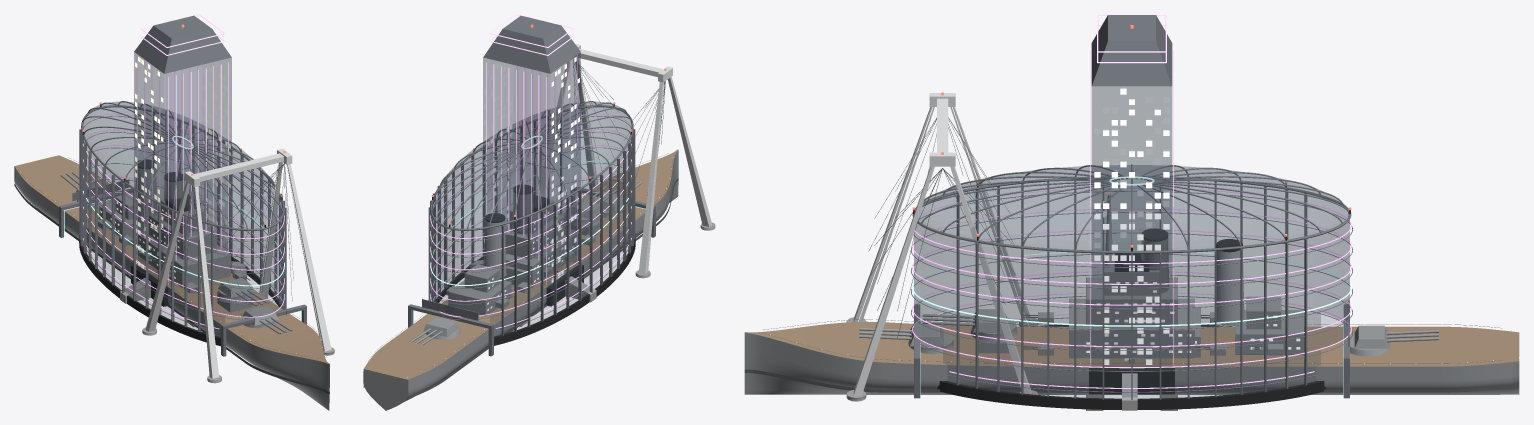
Rendered from lastcall_kit.glb.
The picture shows the model from 3 angles, left to right: view 1: azimuth 30°, elevation 25°; view 2: azimuth 150°, elevation 25°; view 3: azimuth 270°, elevation 25°; orthographic projection. The views are drawn at different scales.
Parts seen in each view (by area): view 1: HaloTower_GLASS, HaloTower_STEEL, CasinoTower_GLASS, Battleship_HULL, Battleship_TEAK, RingPylon_WHITE, CasinoTower_NEONA, CasinoTower_STEEL, HaloTower_LEDA, CasinoTower_WINLIT, HaloTower_DARK, RingPylon_STEEL (+6 smaller); view 2: HaloTower_GLASS, HaloTower_STEEL, Battleship_HULL, CasinoTower_GLASS, Battleship_TEAK, RingPylon_WHITE, CasinoTower_NEONA, CasinoTower_STEEL, HaloTower_LEDA, HaloTower_DARK, CasinoTower_WINLIT, RingPylon_STEEL (+6 smaller); view 3: HaloTower_GLASS, Battleship_HULL, HaloTower_STEEL, CasinoTower_GLASS, Battleship_TEAK, RingPylon_WHITE, HaloTower_LEDA, CasinoTower_STEEL, HaloTower_DARK, CasinoTower_WINLIT, Battleship_HULLDARK, CasinoTower_DARK (+5 smaller).
Part boxes in pixels (x1=…): HaloTower_GLASS: x1=83, y1=102, x2=283, y2=336; HaloTower_STEEL: x1=59, y1=101, x2=306, y2=356; CasinoTower_GLASS: x1=134, y1=52, x2=231, y2=286; Battleship_HULL: x1=14, y1=159, x2=329, y2=410; Battleship_TEAK: x1=14, y1=155, x2=329, y2=363; RingPylon_WHITE: x1=145, y1=148, x2=331, y2=378; CasinoTower_NEONA: x1=136, y1=14, x2=228, y2=285; CasinoTower_STEEL: x1=134, y1=15, x2=231, y2=73; HaloTower_LEDA: x1=83, y1=113, x2=284, y2=329; CasinoTower_WINLIT: x1=135, y1=57, x2=230, y2=269; HaloTower_DARK: x1=79, y1=104, x2=282, y2=346; RingPylon_STEEL: x1=183, y1=163, x2=293, y2=325; HaloTower_GLASS: x1=431, y1=102, x2=631, y2=335; HaloTower_STEEL: x1=408, y1=101, x2=655, y2=356; Battleship_HULL: x1=363, y1=146, x2=678, y2=410; CasinoTower_GLASS: x1=483, y1=52, x2=580, y2=286; Battleship_TEAK: x1=364, y1=149, x2=678, y2=379; RingPylon_WHITE: x1=537, y1=44, x2=712, y2=273; CasinoTower_NEONA: x1=486, y1=14, x2=577, y2=285; CasinoTower_STEEL: x1=483, y1=15, x2=580, y2=73; HaloTower_LEDA: x1=430, y1=113, x2=631, y2=328; HaloTower_DARK: x1=432, y1=104, x2=635, y2=345; CasinoTower_WINLIT: x1=484, y1=57, x2=579, y2=282; RingPylon_STEEL: x1=573, y1=58, x2=665, y2=208; HaloTower_GLASS: x1=914, y1=165, x2=1349, y2=398; Battleship_HULL: x1=744, y1=194, x2=1519, y2=394; HaloTower_STEEL: x1=911, y1=164, x2=1352, y2=399; CasinoTower_GLASS: x1=1092, y1=86, x2=1171, y2=369; Battleship_TEAK: x1=744, y1=321, x2=1519, y2=366; RingPylon_WHITE: x1=853, y1=93, x2=1031, y2=395; HaloTower_LEDA: x1=912, y1=187, x2=1351, y2=388; CasinoTower_STEEL: x1=1091, y1=15, x2=1172, y2=86; HaloTower_DARK: x1=913, y1=183, x2=1350, y2=409; CasinoTower_WINLIT: x1=1094, y1=86, x2=1169, y2=364; Battleship_HULLDARK: x1=744, y1=314, x2=1519, y2=392; CasinoTower_DARK: x1=1089, y1=368, x2=1174, y2=394.
Bounding box in the file's own units: 74.45 × 147 × 270.
